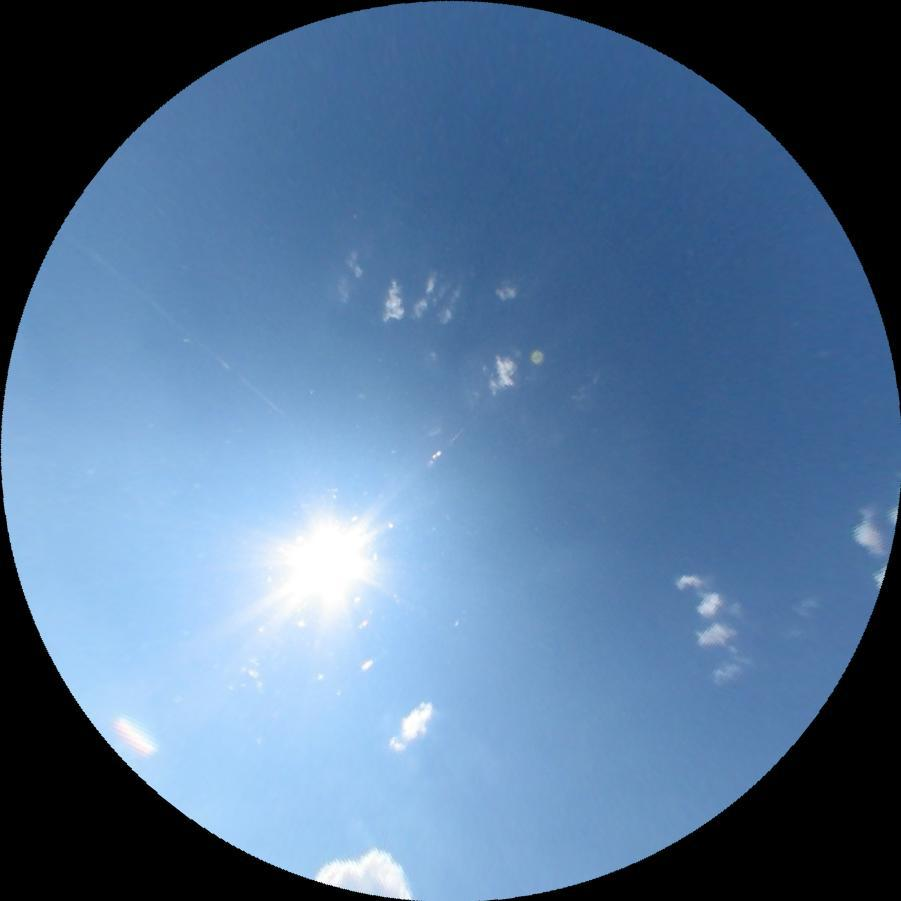parasite: (56, 225, 293, 422)
sun: (276, 517, 375, 615)
